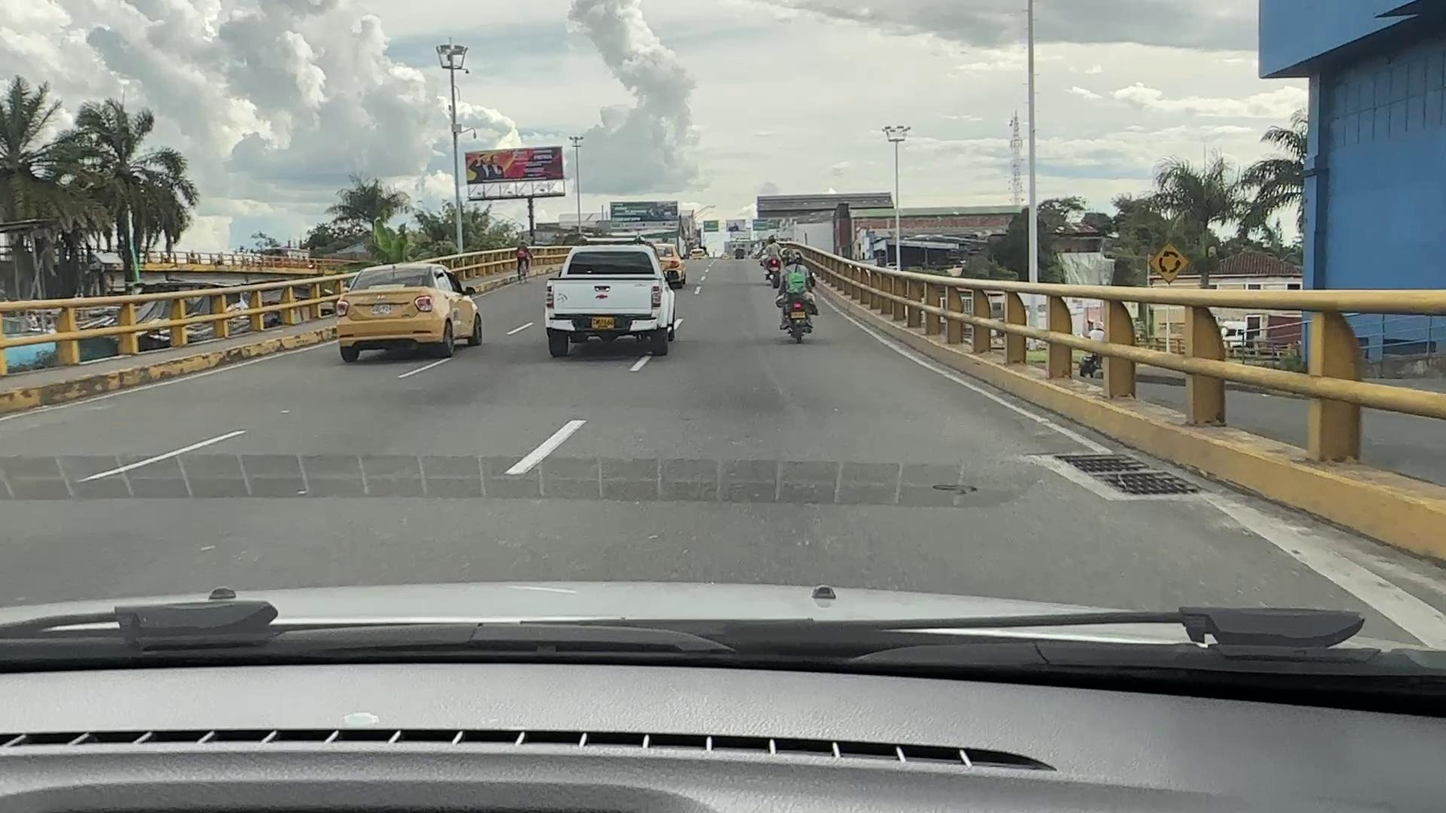bache: (933, 484, 975, 493)
rejilla: (1054, 453, 1212, 498)
